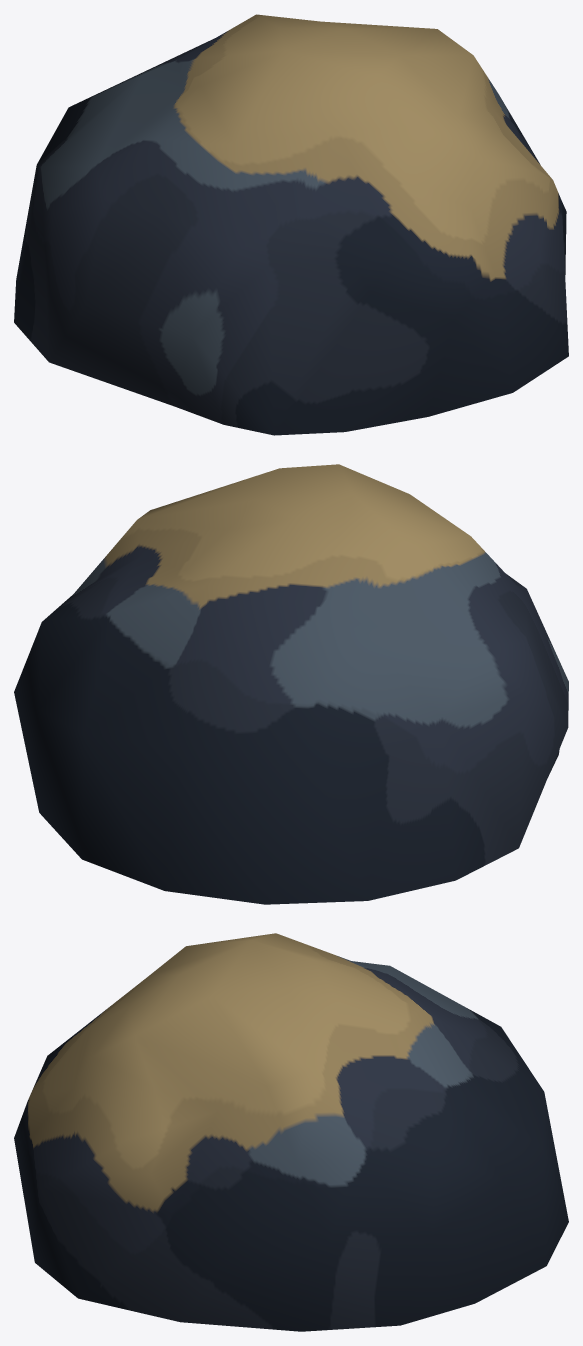
Rendered from Great Star Coral_preview_3DS_simplified.glb.
The picture shows the model from 3 angles, top to bottom: view 1: azimuth 30°, elevation 25°; view 2: azimuth 150°, elevation 25°; view 3: azimuth 270°, elevation 25°; orthographic projection. The views are drawn at different scales.
Visible parts, largest first — view 1: Marine Park Empire model; view 2: Marine Park Empire model; view 3: Marine Park Empire model.
Part boxes in pixels (box(x1,y1,x2,y2)): Marine Park Empire model: box(14, 14, 568, 435); Marine Park Empire model: box(14, 464, 568, 904); Marine Park Empire model: box(14, 933, 568, 1331).
Bounding box in the file's own units: 27.64 × 15.82 × 29.38.
1 material, 1 textured.
